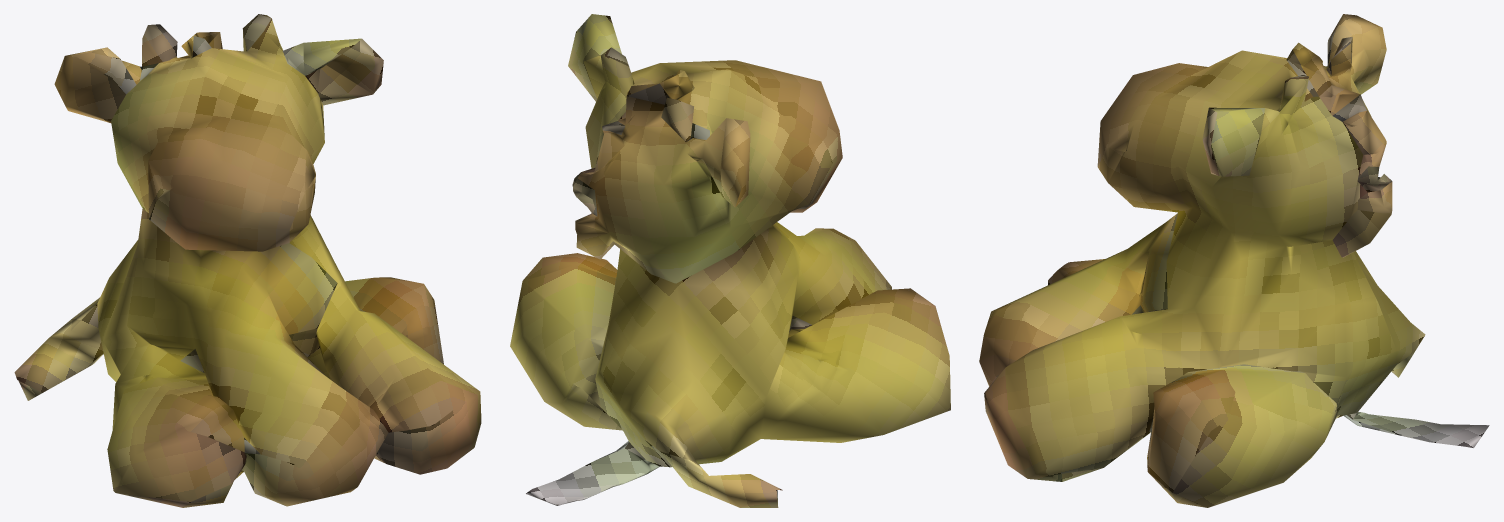
File: Ortho_Forward_Facing-low.glb
3 views of the same model, side by side, from view 1: azimuth 30°, elevation 25°; view 2: azimuth 150°, elevation 25°; view 3: azimuth 270°, elevation 25° (orthographic). The views are drawn at different scales.
Visible parts, largest first — view 1: Ortho_Forward_Facing; view 2: Ortho_Forward_Facing; view 3: Ortho_Forward_Facing.
Part boxes in pixels (bbox=[...]): Ortho_Forward_Facing: bbox=[14, 14, 481, 507]; Ortho_Forward_Facing: bbox=[510, 14, 950, 507]; Ortho_Forward_Facing: bbox=[979, 14, 1489, 507].
Bounding box in the file's own units: 0.1999 × 0.1897 × 0.2332.
1 material, 1 textured.
